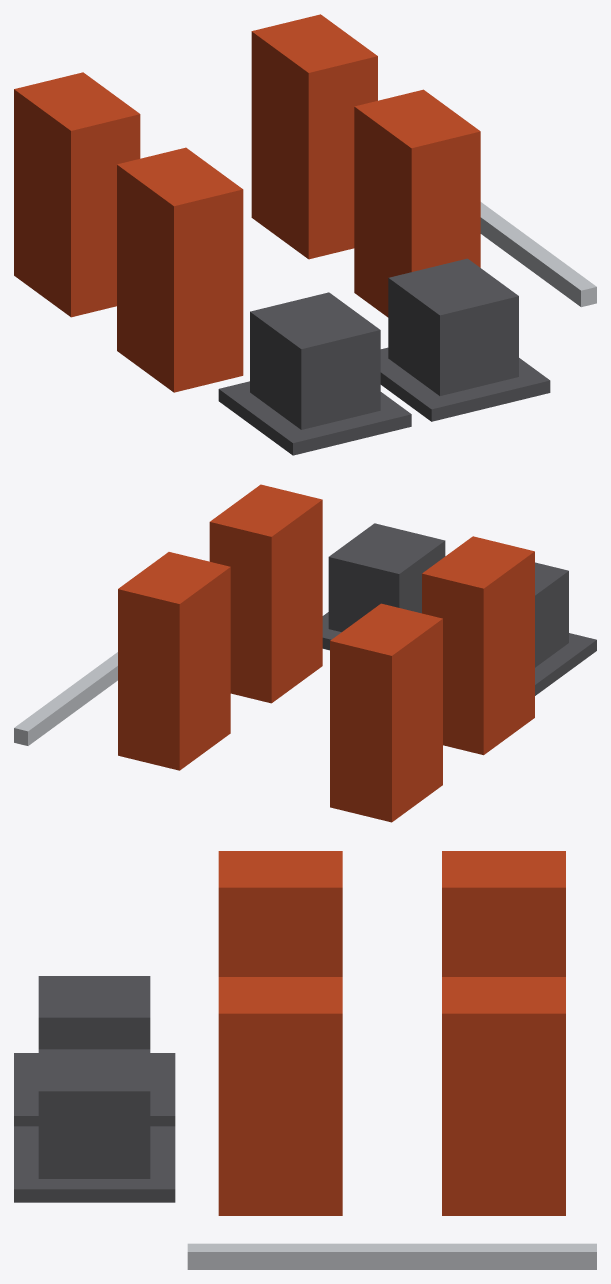
Rendered from KIT_LIFT_4in.glb.
The picture shows the model from 3 angles, top to bottom: view 1: azimuth 30°, elevation 25°; view 2: azimuth 150°, elevation 25°; view 3: azimuth 270°, elevation 25°; orthographic projection. The views are drawn at different scales.
Parts seen in each view (by area): view 1: Blocks, Adjusters, Bolts; view 2: Blocks, Adjusters, Bolts; view 3: Blocks, Adjusters, Bolts.
Boxes of the visible parts, left/top/right/bottom form: Blocks: left=14, top=14, right=480, bottom=392; Adjusters: left=218, top=258, right=550, bottom=455; Bolts: left=480, top=202, right=596, bottom=307; Blocks: left=118, top=484, right=534, bottom=822; Adjusters: left=322, top=523, right=596, bottom=695; Bolts: left=14, top=652, right=117, bottom=745; Blocks: left=218, top=851, right=565, bottom=1215; Adjusters: left=14, top=976, right=175, bottom=1202; Bolts: left=187, top=1243, right=596, bottom=1269.
Bounding box in the file's own units: 0.413 × 0.18 × 0.47.
